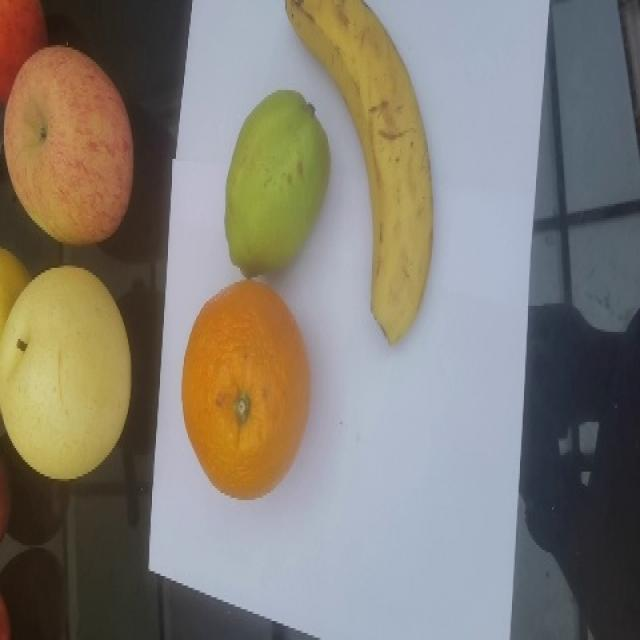Apple: (0, 47, 140, 244), (0, 0, 67, 97)
Banana: (283, 0, 437, 344)
Orange: (179, 280, 317, 505)
